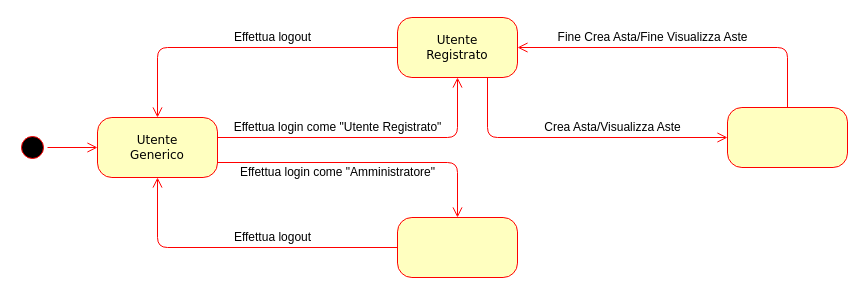
This 865x295 diagram has some shape labels left out. Here are the shapes that lost their labels. From the top down, the box of each, then its label:
(726, 106, 848, 168): Asta Manager
(396, 216, 518, 278): Amministratore
